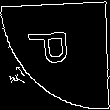P_E: (29, 35, 81, 75)
